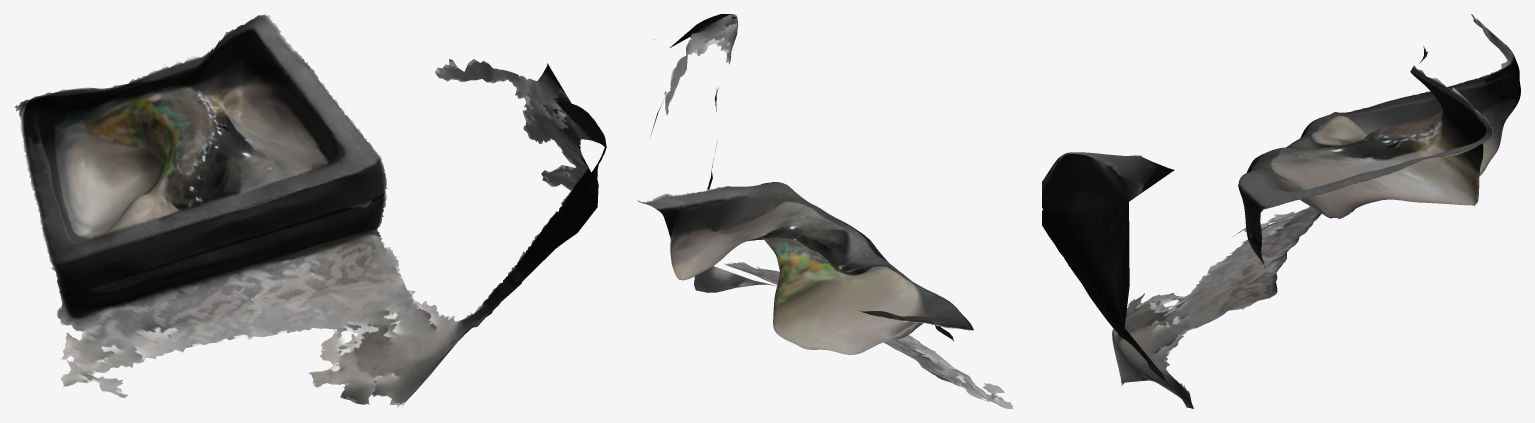
3 renders of one model, left to right at view 1: azimuth 30°, elevation 25°; view 2: azimuth 150°, elevation 25°; view 3: azimuth 270°, elevation 25°, orthographic. The views are drawn at different scales.
Size of the model in its own units: 0.5124 by 0.3025 by 0.4271.
Materials: 1 (1 with a texture image).
